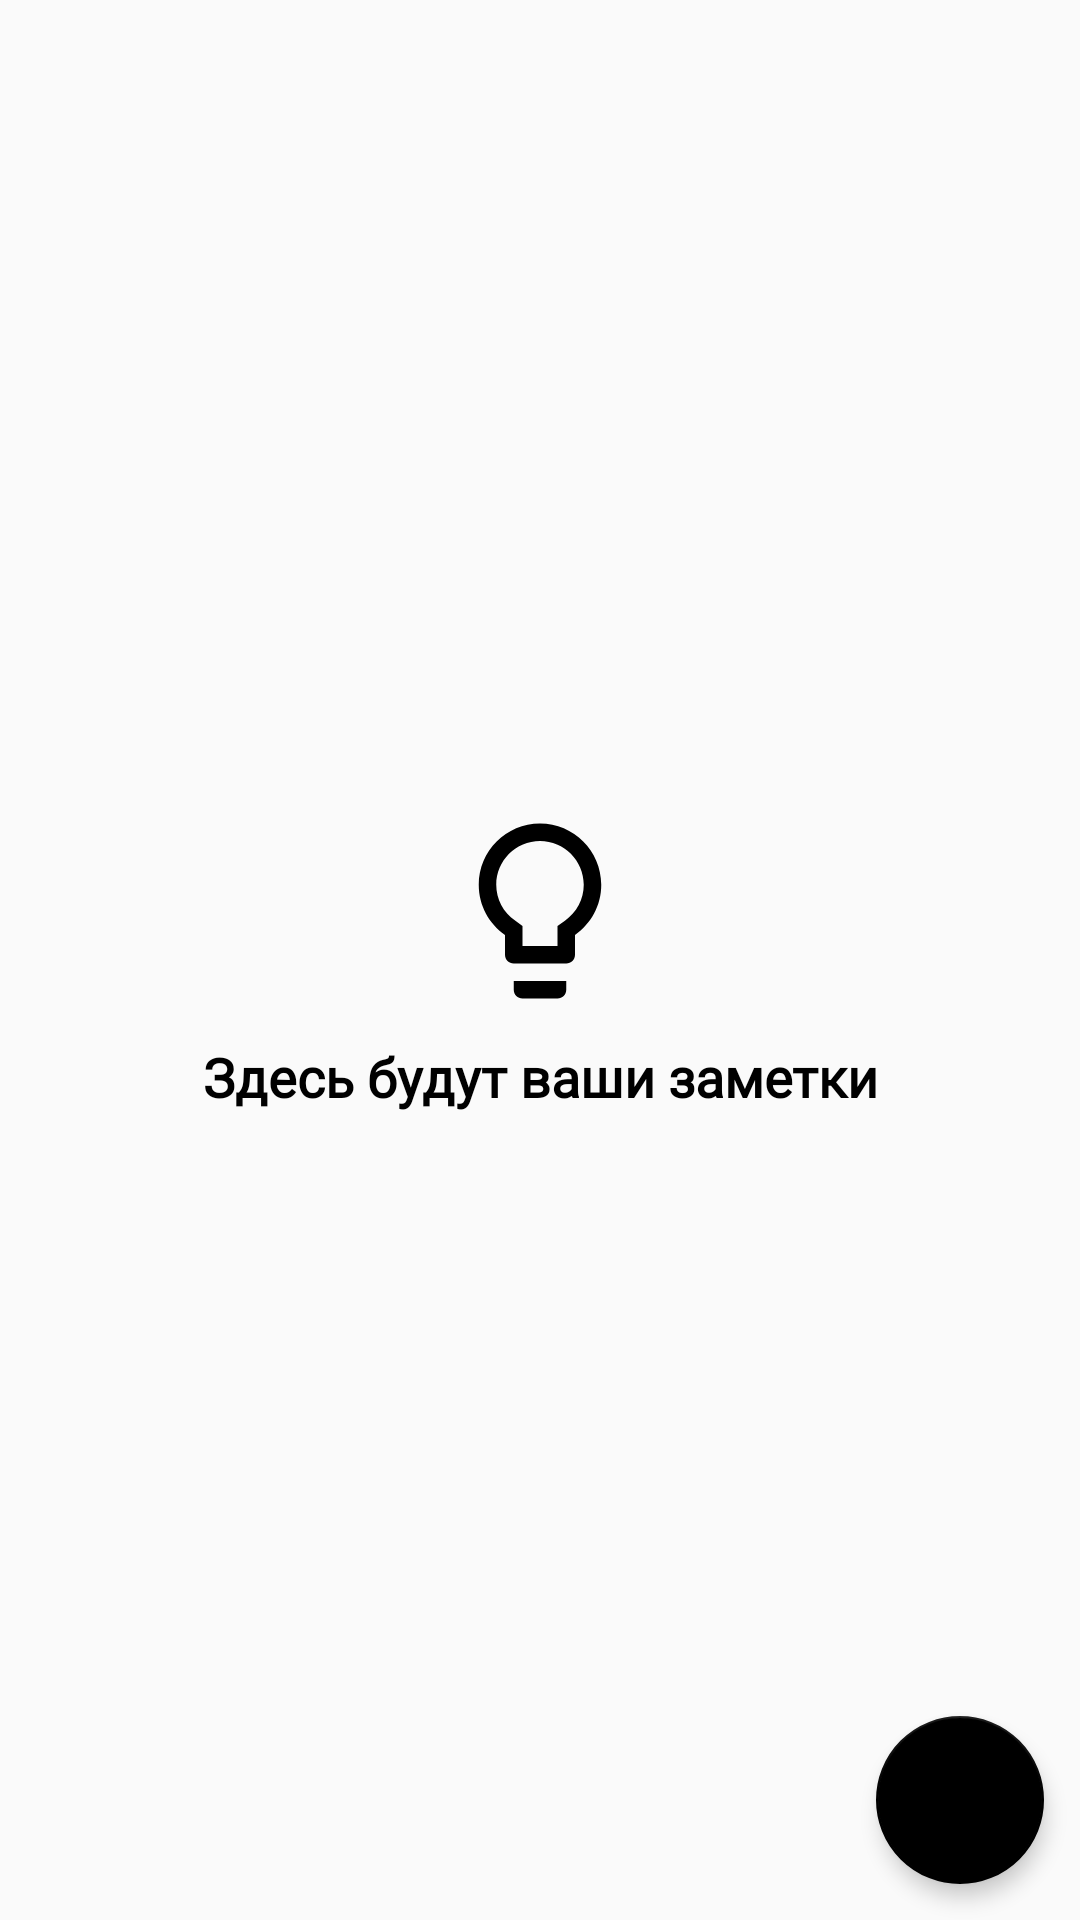

Icons on this 1080 × 1920 Android screen, each with its box as (x1, y1, x2, y2):
lightbulb: (478, 823, 602, 999)
